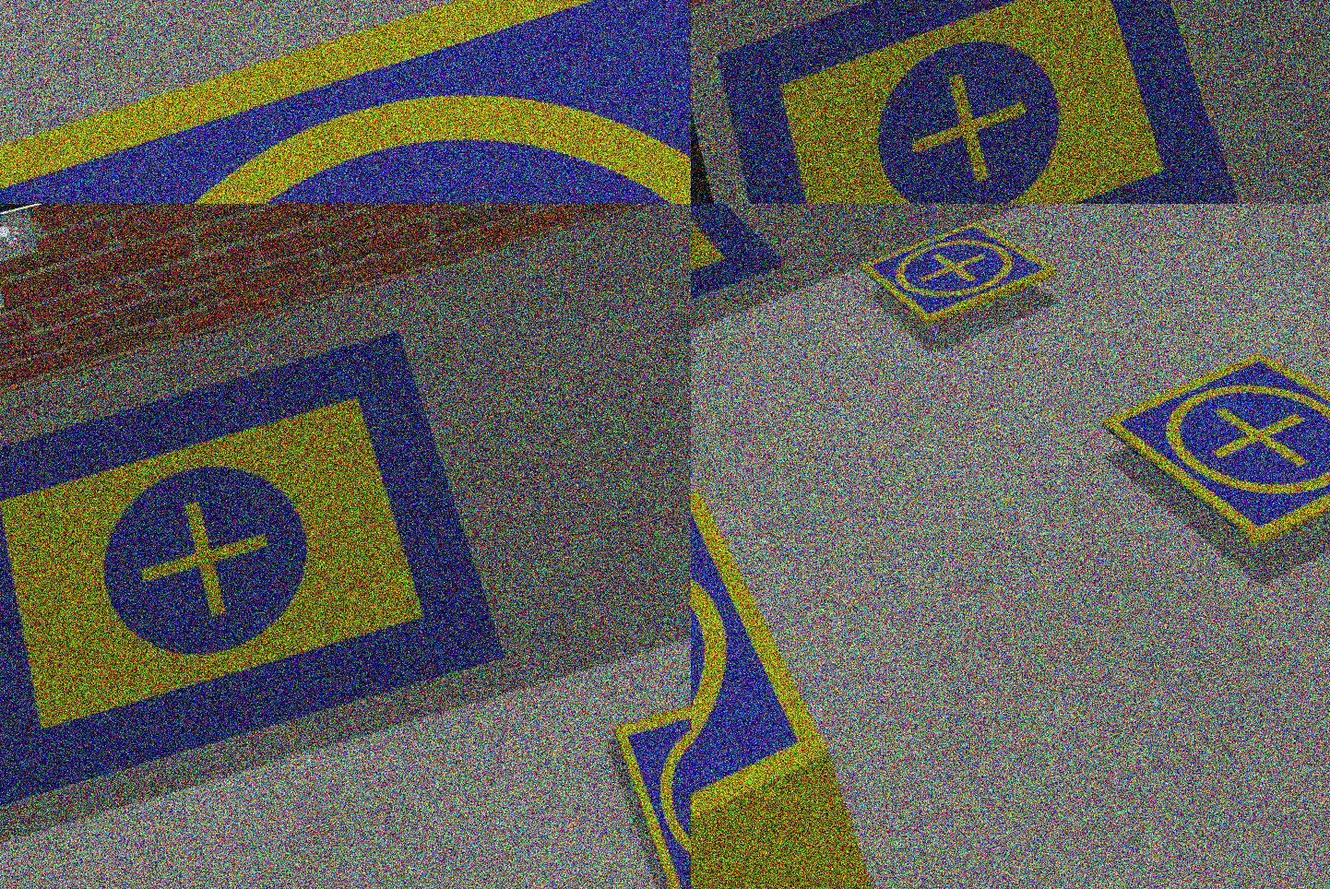large_base: (1, 323, 516, 809), (692, 1, 1257, 205), (692, 205, 797, 406)
small_base: (1, 1, 692, 205), (692, 476, 860, 889), (1098, 319, 1330, 575), (859, 210, 1065, 343), (610, 664, 692, 889)
